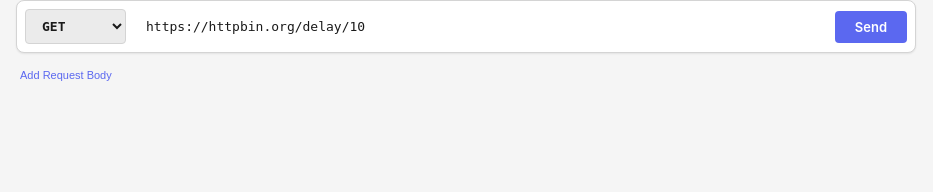
Test: RequestBuilder component › displays typed error card on request failure
Step 1. Click the button "Send" → coordinates (871, 26), box [835, 10, 907, 42]
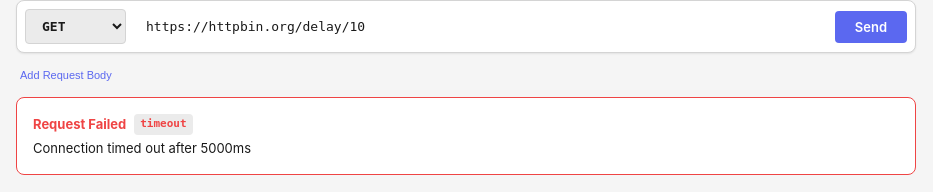
Result: the message "Request Failed timeout Connection timed out after 5000ms" is shown at [16, 97, 916, 175]
Result: the text "timeout" is shown at [134, 114, 193, 134]
Result: the text "Connection timed out after 5000ms" is shown at [33, 140, 251, 156]
